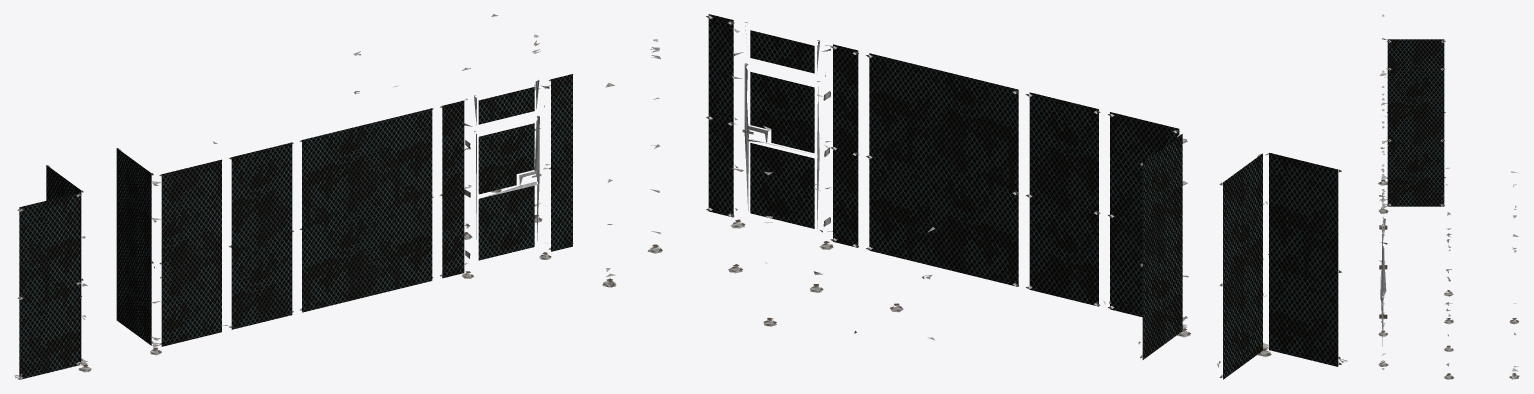
The model's file is fence.glb.
The picture shows the model from 3 angles, left to right: view 1: azimuth 30°, elevation 25°; view 2: azimuth 150°, elevation 25°; view 3: azimuth 270°, elevation 25°; orthographic projection. The views are drawn at different scales.
Parts seen in each view (by area): view 1: modular_chainlink_fence_door_latch; view 2: modular_chainlink_fence_door_latch; view 3: modular_chainlink_fence_door_latch.
Part boxes in pixels (x1,y1,x2,y2): modular_chainlink_fence_door_latch: (14,14,573,379); modular_chainlink_fence_door_latch: (602,14,1347,379); modular_chainlink_fence_door_latch: (1378,14,1519,379).
Bounding box in the file's own units: 8.11 × 2.51 × 2.17.
2 materials, 2 textured.
